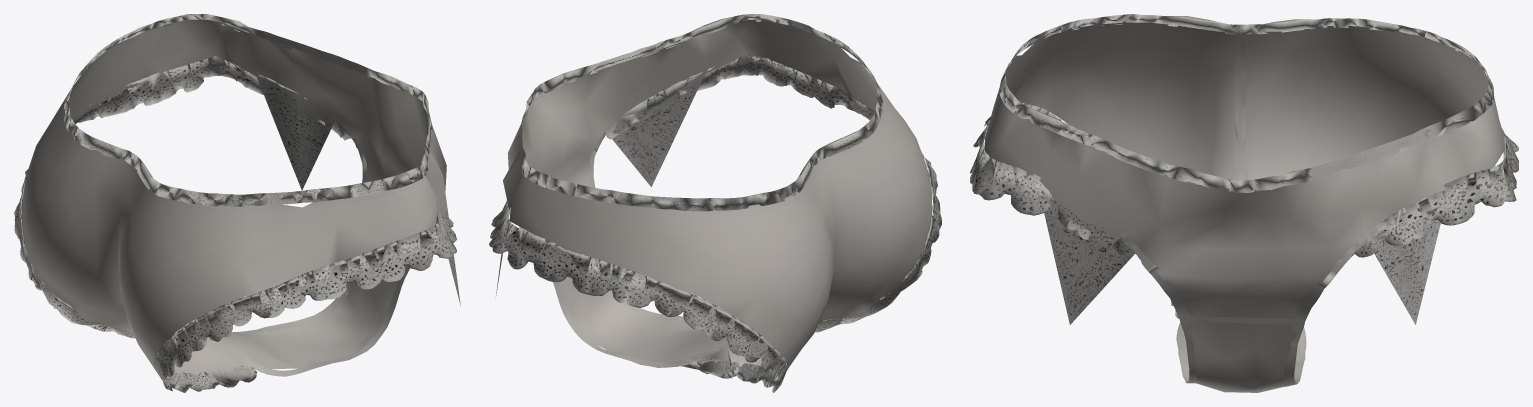
Rendered from panty_p1.glb.
3 renders of one model, left to right at view 1: azimuth 30°, elevation 25°; view 2: azimuth 150°, elevation 25°; view 3: azimuth 270°, elevation 25°, orthographic. The views are drawn at different scales.
Visible parts, largest first — view 1: tripo_node_6fdf759b-87e1-43f8-bb0d-9ac2a98721f3; view 2: tripo_node_6fdf759b-87e1-43f8-bb0d-9ac2a98721f3; view 3: tripo_node_6fdf759b-87e1-43f8-bb0d-9ac2a98721f3.
Boxes of the visible parts, x1,y1,x2,y2 form: tripo_node_6fdf759b-87e1-43f8-bb0d-9ac2a98721f3: (14, 14, 460, 392); tripo_node_6fdf759b-87e1-43f8-bb0d-9ac2a98721f3: (489, 14, 941, 392); tripo_node_6fdf759b-87e1-43f8-bb0d-9ac2a98721f3: (970, 14, 1518, 392).
Bounding box in the file's own units: 0.7598 × 0.5645 × 0.998.
Materials: 1 (1 with a texture image).
